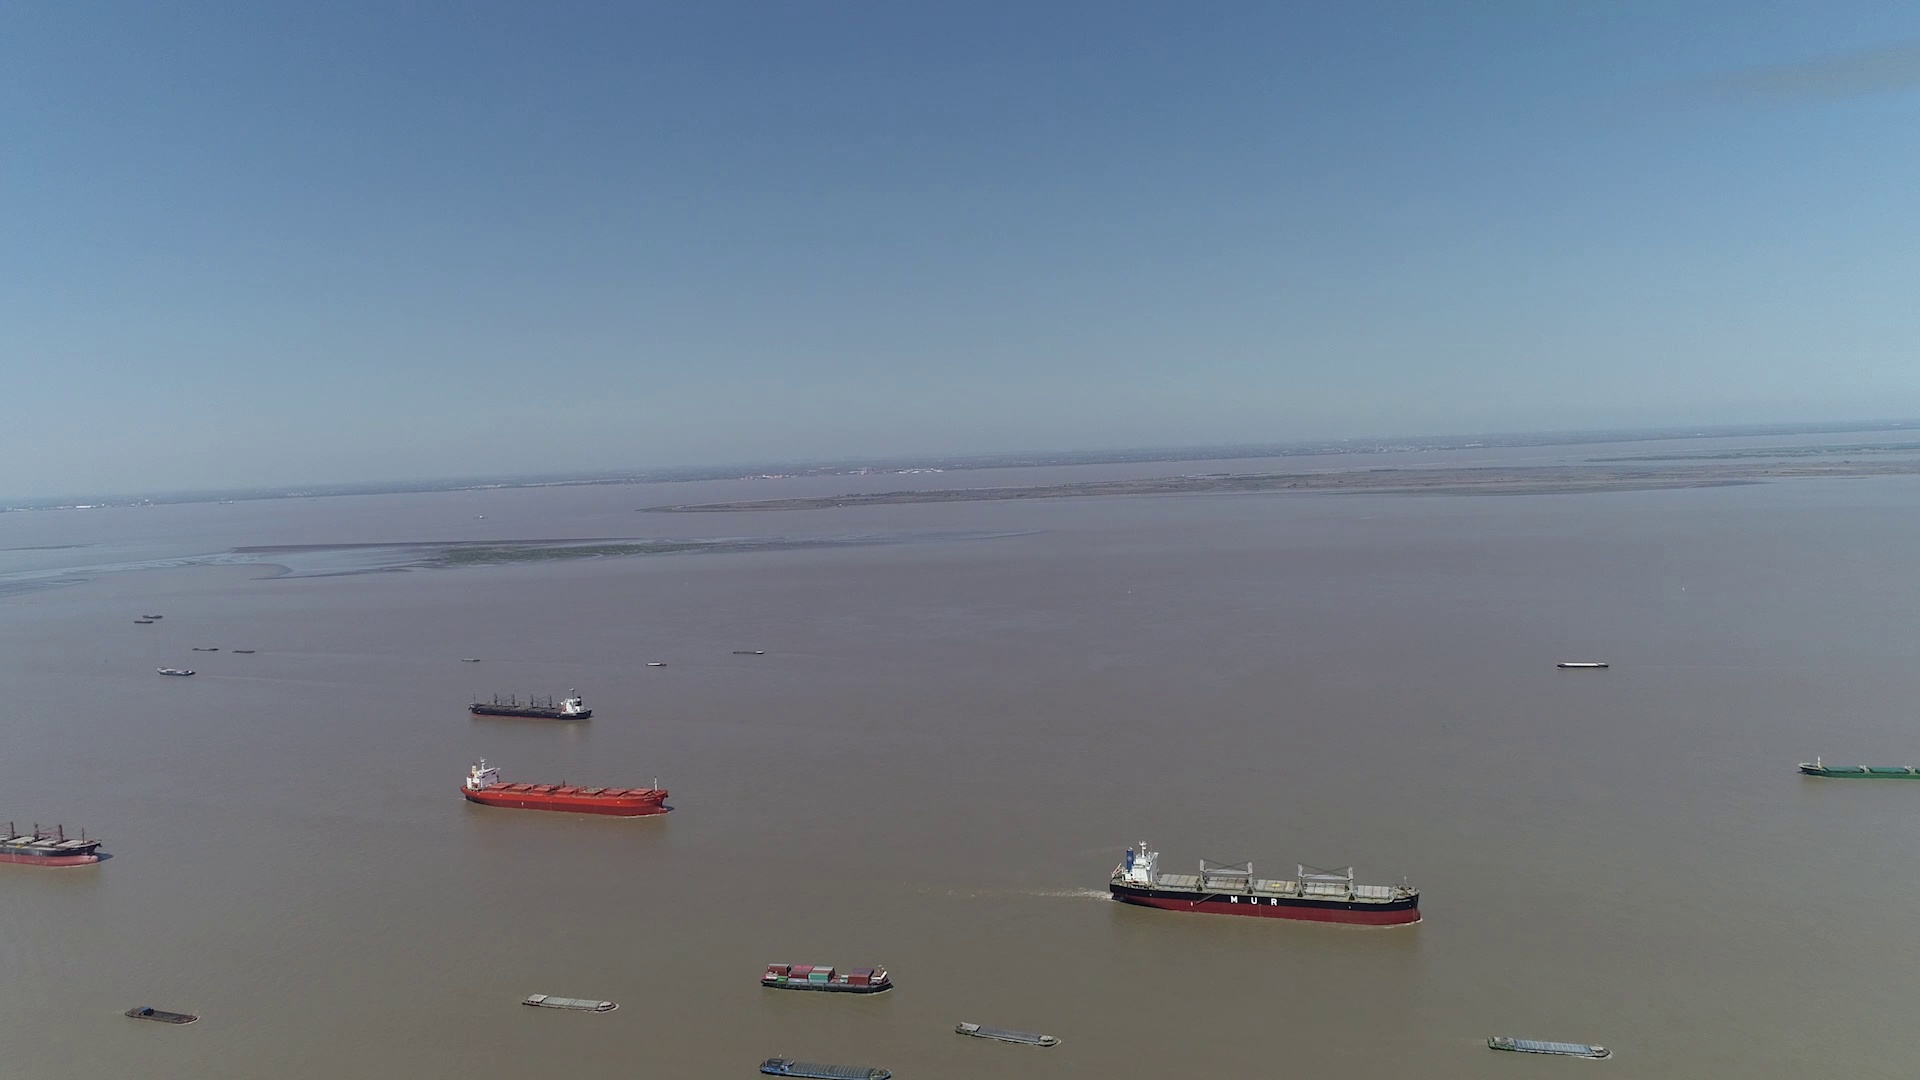ship: (1109, 841, 1424, 927), (463, 757, 669, 816), (1, 804, 105, 865), (760, 961, 895, 996), (468, 688, 592, 723), (758, 1056, 894, 1080), (1486, 1034, 1609, 1059), (1797, 756, 1920, 779), (953, 1021, 1058, 1047), (520, 993, 616, 1014), (125, 1007, 199, 1025), (156, 665, 196, 675), (1557, 662, 1609, 670)
